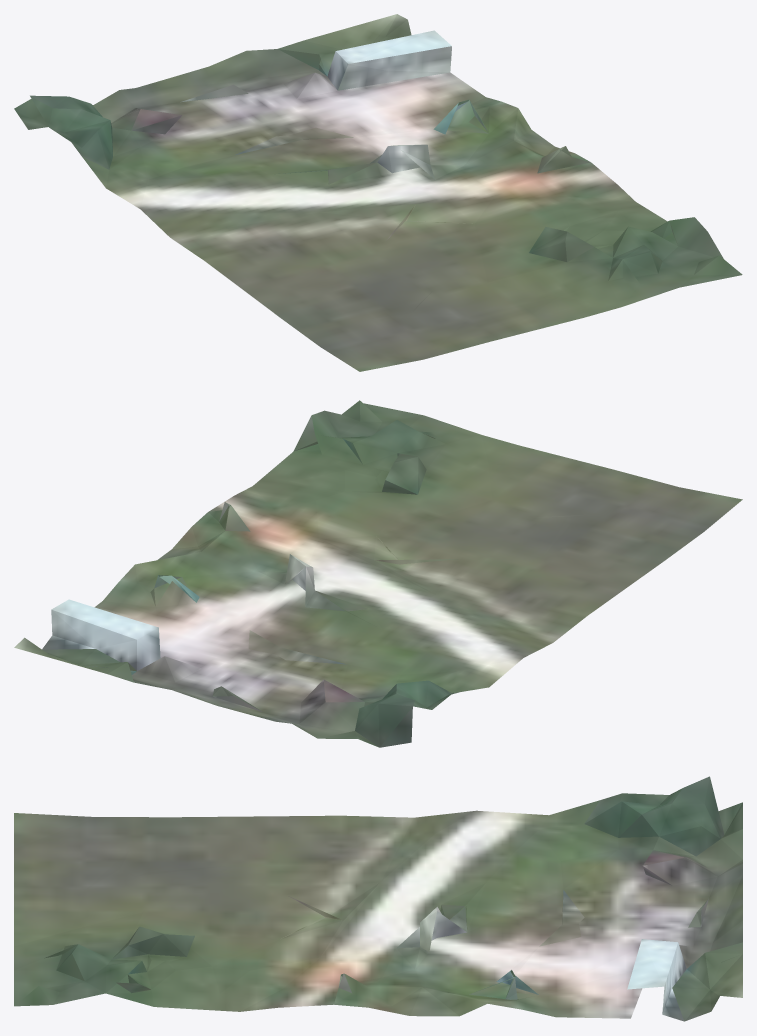
Rendered from Tile__000__008_L16_00.glb.
The picture shows the model from 3 angles, top to bottom: view 1: azimuth 30°, elevation 25°; view 2: azimuth 150°, elevation 25°; view 3: azimuth 270°, elevation 25°; orthographic projection. The views are drawn at different scales.
Visible parts, largest first — view 1: root; view 2: root; view 3: root.
Boxes of the visible parts, x1=… form: root: x1=14, y1=14, x2=742, y2=371; root: x1=14, y1=400, x2=742, y2=747; root: x1=14, y1=776, x2=742, y2=1021.
Bounding box in the file's own units: 60.71 × 7.04 × 94.87.
1 material, 1 textured.
